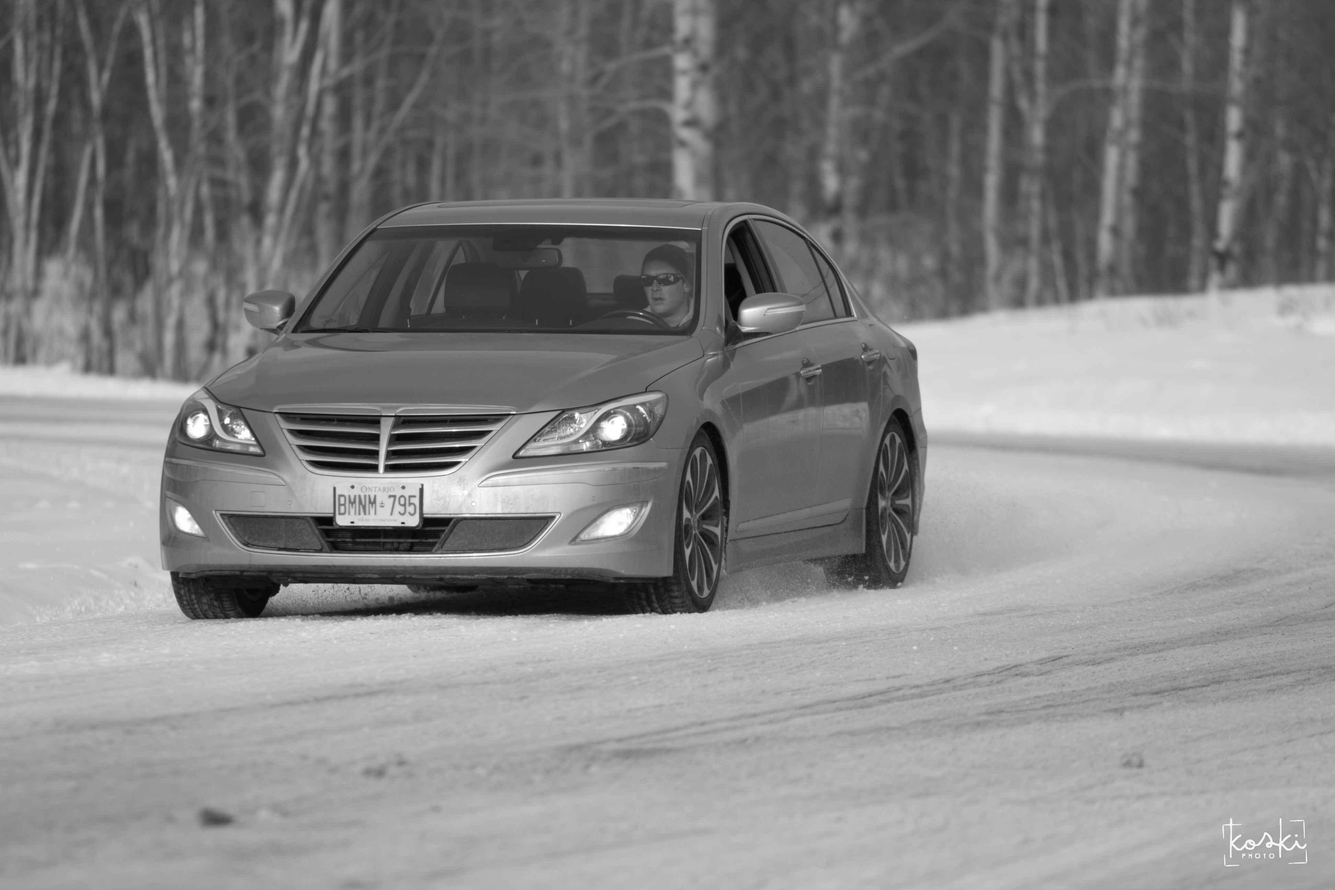car: (154, 185, 931, 619)
